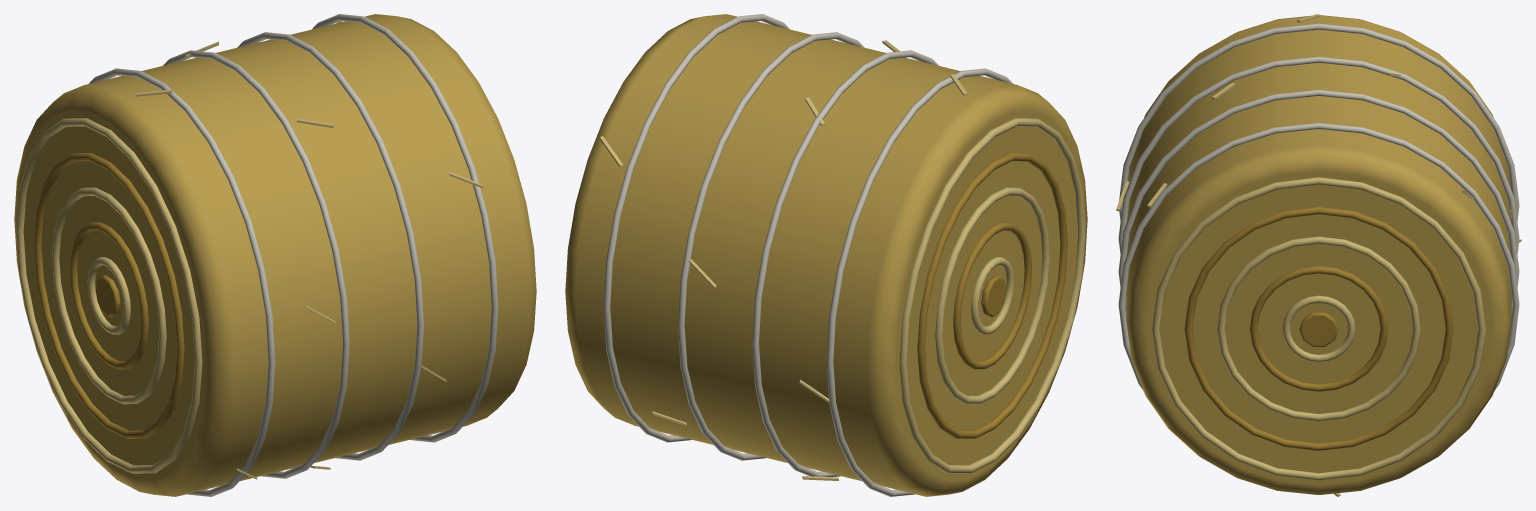
Rendered from pr_hay.glb.
3 renders of one model, left to right at view 1: azimuth 30°, elevation 25°; view 2: azimuth 150°, elevation 25°; view 3: azimuth 270°, elevation 25°, orthographic. The views are drawn at different scales.
Parts seen in each view (by area): view 1: cyl.001, ring.005, ring.004, ring.003, ring.013, ring.012, ring, ring.011, ring.002, ring.001, cyl.002; view 2: cyl.001, ring.005, ring.004, ring.003, ring, ring.013, ring.011, ring.012, ring.002, ring.001, cyl.002; view 3: cyl.001, ring.010, ring.009, ring, ring.008, ring.013, ring.012, ring.011, ring.007, ring.006, cyl.
Boxes of the visible parts, x1,y1,x2,y2 form: cyl.001: (14,14,536,496); ring.005: (16,118,202,473); ring.004: (34,153,184,438); ring.003: (52,187,166,404); ring.013: (237,32,424,460); ring.012: (163,50,349,478); ring: (312,14,498,442); ring.011: (89,68,275,496); ring.002: (69,222,148,369); ring.001: (87,257,130,334); cyl.002: (95,275,120,317); cyl.001: (565,14,1087,496); ring.005: (899,118,1085,473); ring.004: (917,153,1067,438); ring.003: (935,187,1049,404); ring: (603,14,789,442); ring.013: (677,32,864,460); ring.011: (826,68,1012,496); ring.012: (752,50,938,476); ring.002: (953,222,1032,369); ring.001: (971,257,1014,334); cyl.002: (981,275,1006,317); cyl.001: (1126,15,1511,494); ring.010: (1152,177,1485,480); ring.009: (1184,207,1453,450); ring: (1118,123,1519,390); ring.008: (1217,236,1420,421); ring.013: (1118,90,1519,313); ring.012: (1118,56,1519,254); ring.011: (1119,23,1519,220); ring.007: (1249,266,1388,391); ring.006: (1282,295,1355,361); cyl: (1299,312,1338,346).
Bounding box in the file's own units: 1.1 × 1.24 × 1.24.
